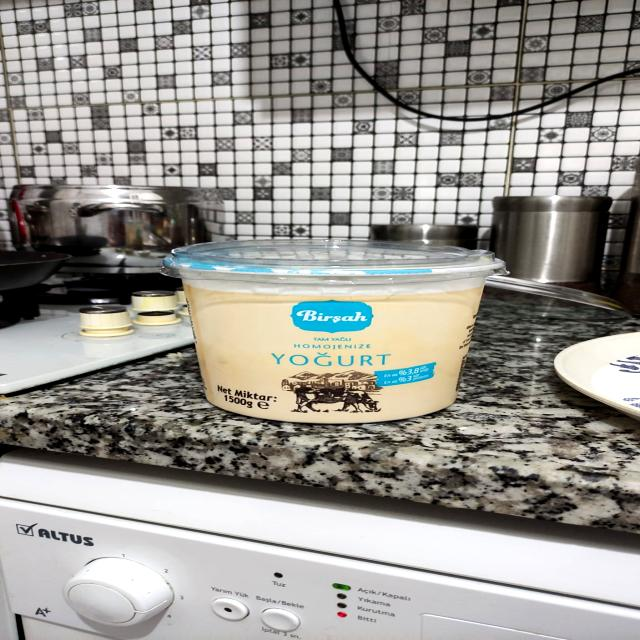yogurt: (153, 227, 514, 427)
